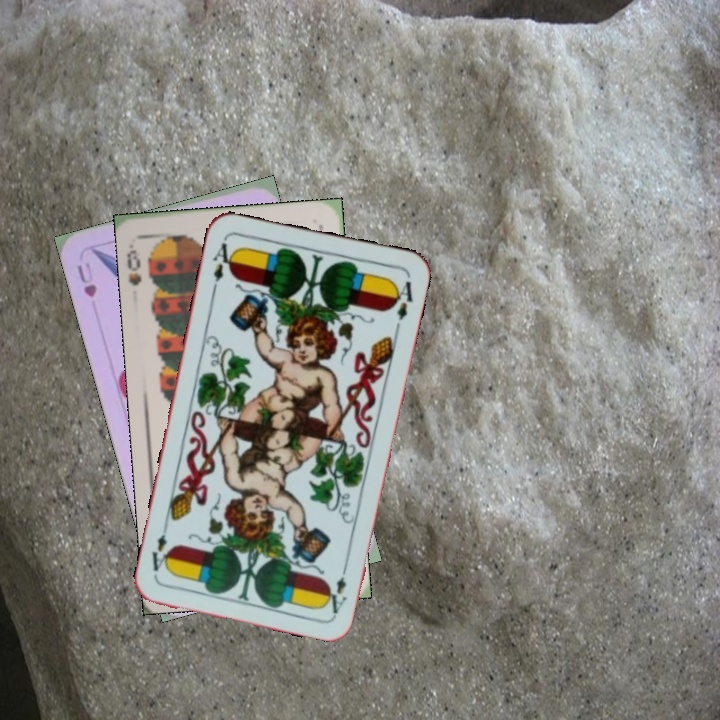EA: (208, 236, 238, 295), (327, 558, 350, 617)
HU: (73, 258, 100, 300)
S8: (123, 240, 145, 289)
